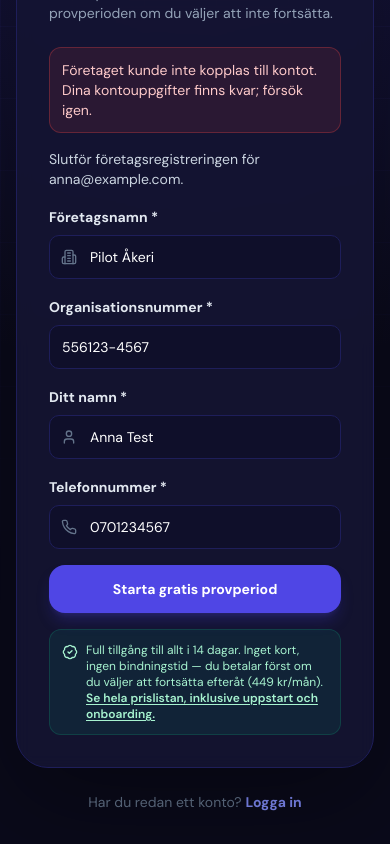
Test: company registration lifecycle › retains a signed-in account after bootstrap failure and retries without a second signup
This screenshot has width=390, height=844.
(page scrolled)
Expected: the message is shown, left=49, top=47, right=341, bottom=133
Click the button "Starta gratis provperiod": coordinates (195, 589) left=49, top=565, right=341, bottom=613
(page scrolled)
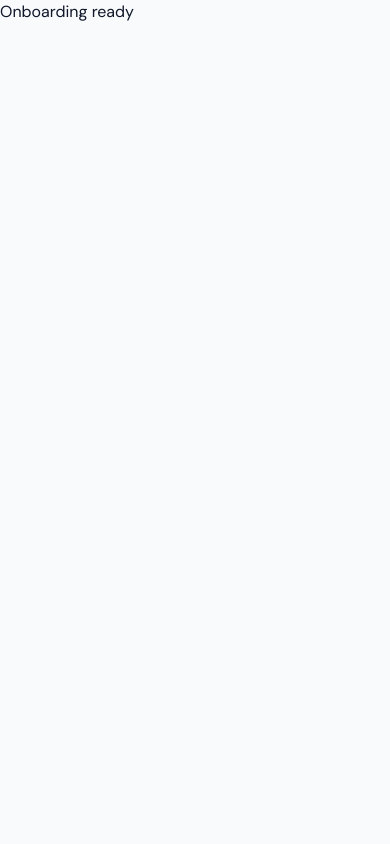
Expected: the text "Onboarding ready" is shown, left=0, top=1, right=134, bottom=22
